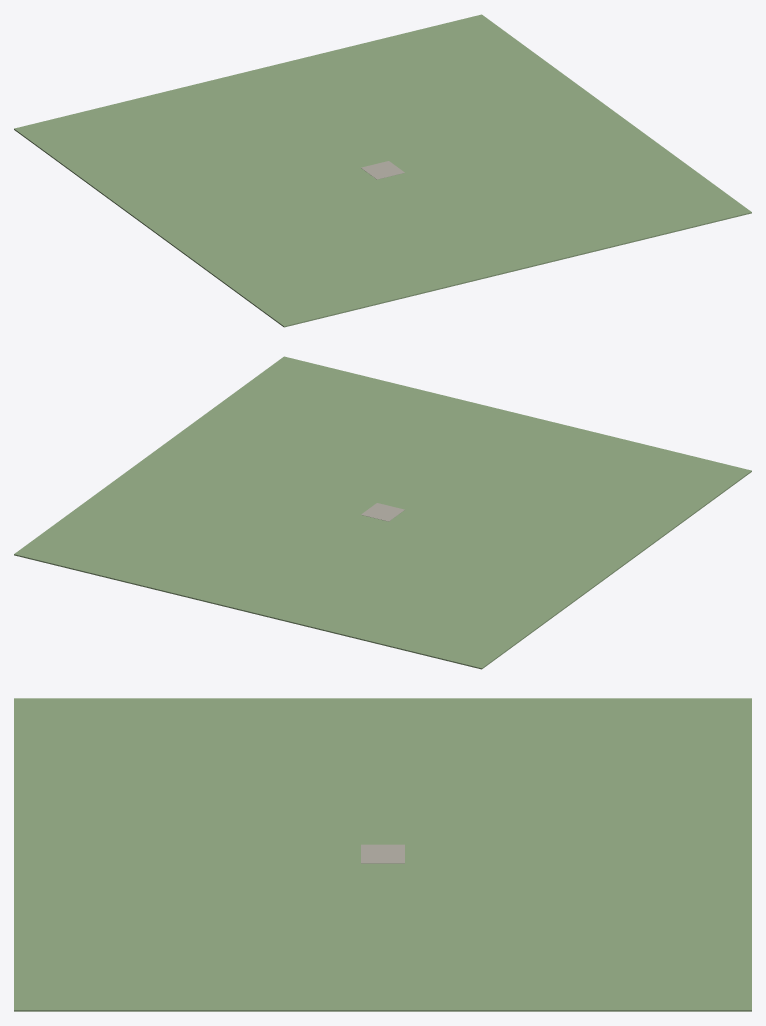
The model's file is ground.glb.
3 renders of one model, top to bottom at view 1: azimuth 30°, elevation 25°; view 2: azimuth 150°, elevation 25°; view 3: azimuth 270°, elevation 25°, orthographic. The views are drawn at different scales.
Visible parts, largest first — view 1: ground; view 2: ground; view 3: ground.
Boxes of the visible parts, box(x1,y1,x2,y2) form: ground: box(14, 14, 751, 327); ground: box(14, 356, 751, 669); ground: box(14, 698, 751, 1011).
Bounding box in the file's own units: 100 × 0.2875 × 100.
